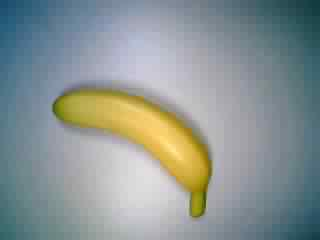banana: (48, 83, 216, 222)
